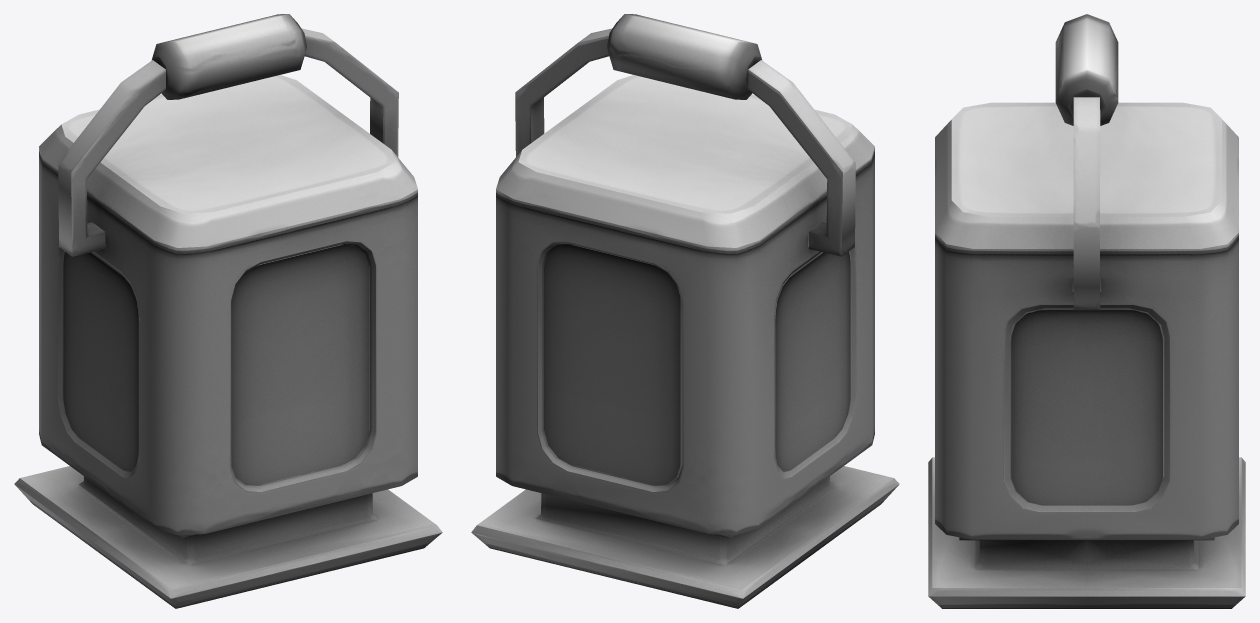
The model's file is 144_a_lantern_lp.fbx.
3 views of the same model, side by side, from view 1: azimuth 30°, elevation 25°; view 2: azimuth 150°, elevation 25°; view 3: azimuth 270°, elevation 25° (orthographic).
Parts seen in each view (by area): view 1: 144_a_lantern; view 2: 144_a_lantern; view 3: 144_a_lantern.
Boxes of the visible parts, box(x1,y1,x2,y2) form: 144_a_lantern: box(14, 14, 442, 608); 144_a_lantern: box(471, 14, 899, 608); 144_a_lantern: box(928, 14, 1245, 608).
Bounding box in the file's own units: 23.74 × 34.44 × 19.67.
